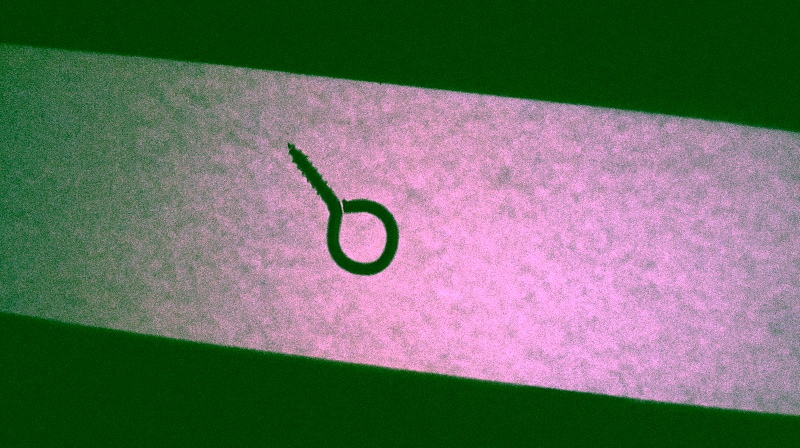O001: (285, 141, 402, 279)
